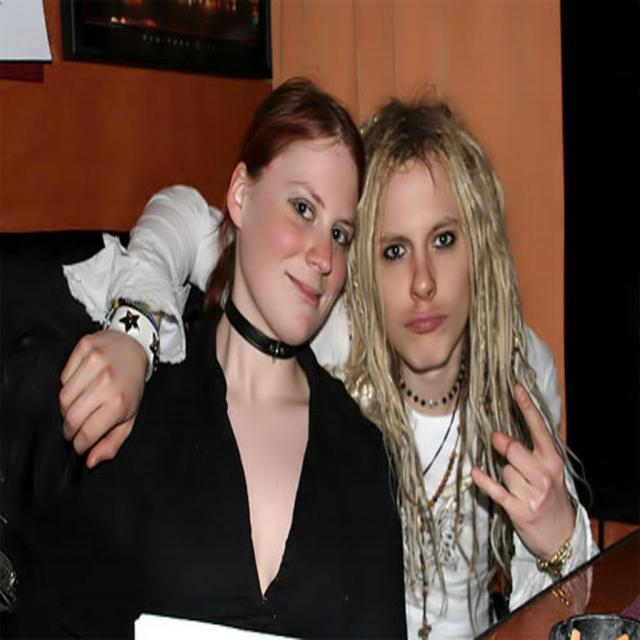nomask: (255, 139, 359, 330), (382, 154, 468, 366)
